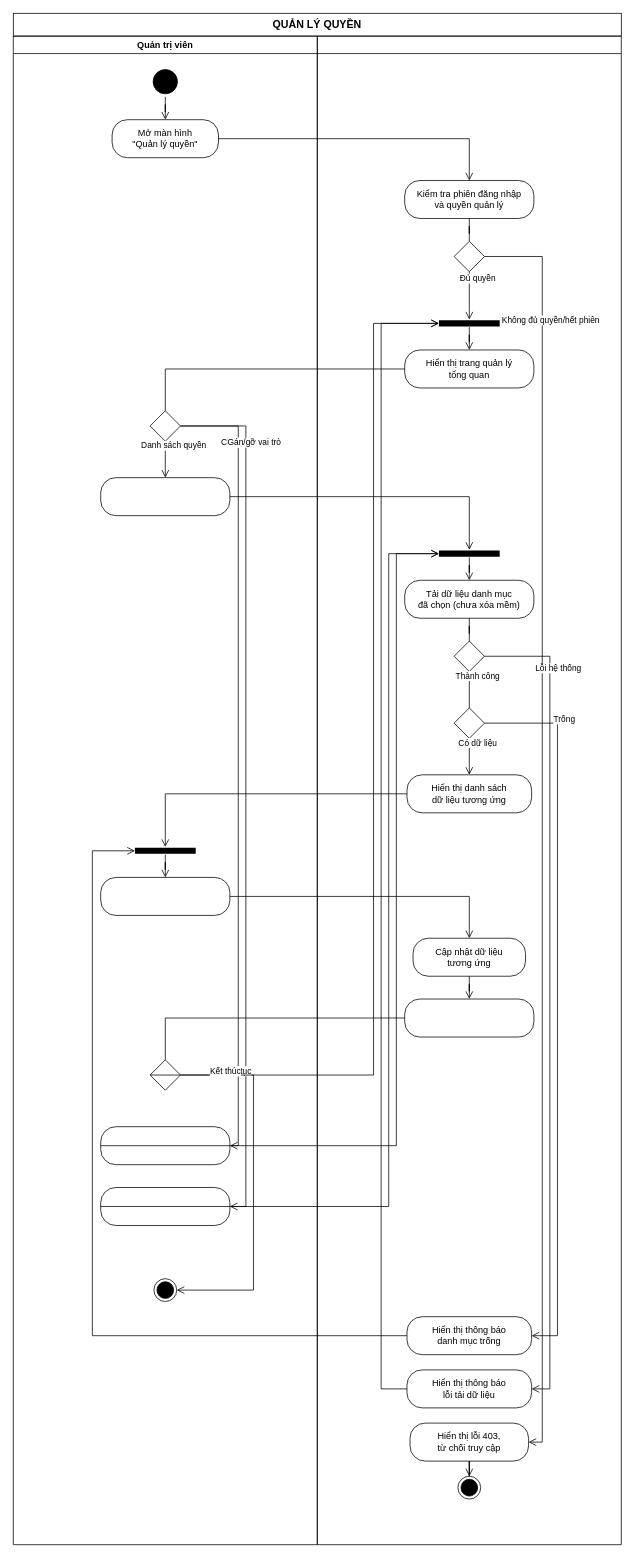
The diagram is 635 pixels wide and 1558 high, and some of its shapes have lost their labels. The shapes that lost their labels are listed below. From the top down, each one's box as (x1, y1, x2, y2) in pixels, then its label:
(100, 477, 230, 516): Tìm kiếm, lọc theo vai trò hoặc sắp xếp danh sách
(317, 35, 621, 1545): Hệ thống
(100, 877, 230, 915): Thực hiện thao tác (xem/thêm/sửa/xóa/khác)
(404, 998, 534, 1037): Hiển thị thông báo cập nhật thành công
(100, 1126, 230, 1165): Xem chi tiết quyền và các vai trò sở hữu
(100, 1187, 230, 1226): Thêm hoặc xóa vai trò khỏi quyền
